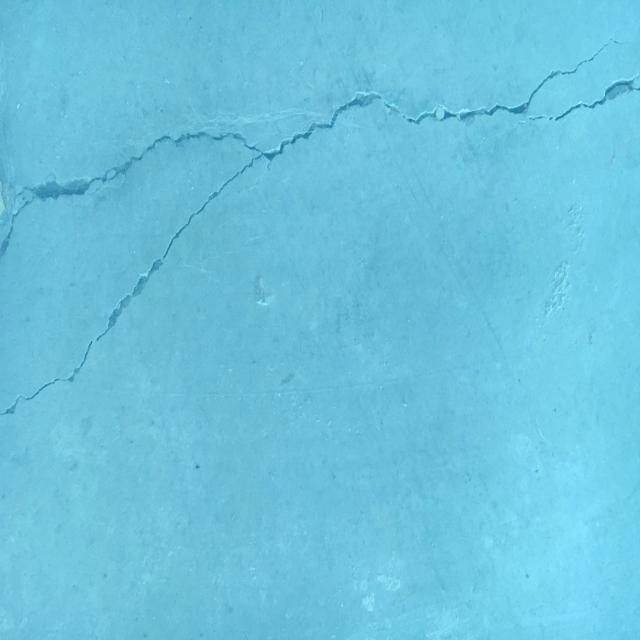crack: (0, 38, 620, 416), (517, 70, 640, 124)
